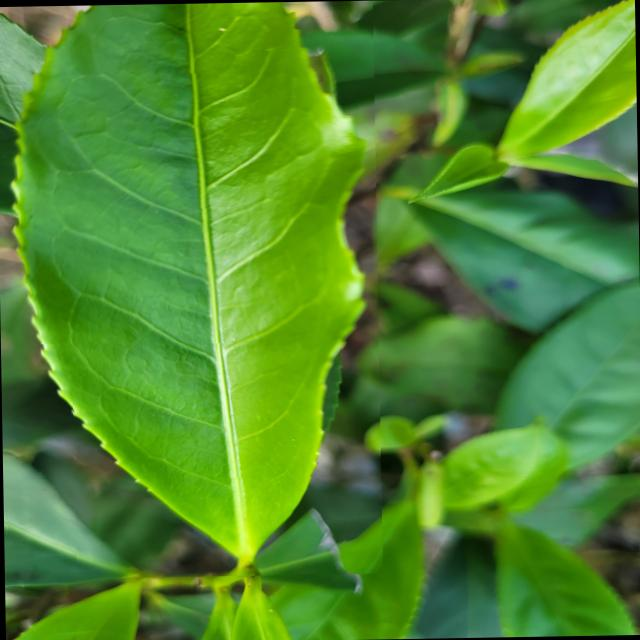Category B(2-4 days): (0, 0, 383, 579)
